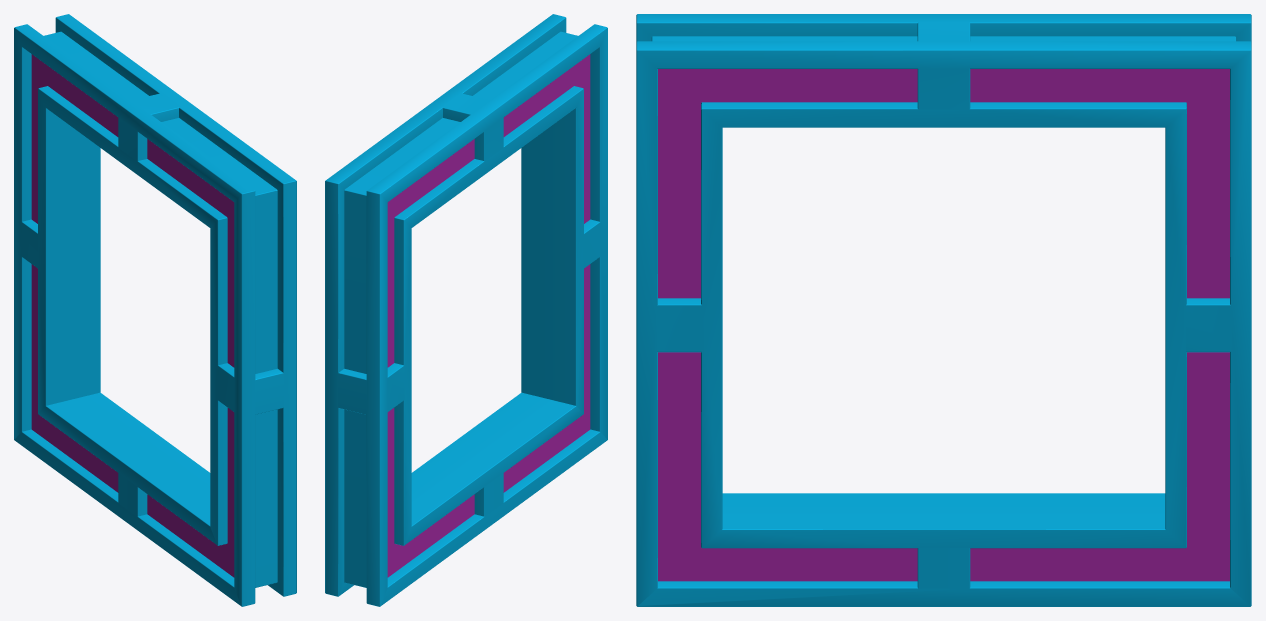
Rendered from SM Platform Hole.fbx.
3 renders of one model, left to right at view 1: azimuth 30°, elevation 25°; view 2: azimuth 150°, elevation 25°; view 3: azimuth 270°, elevation 25°, orthographic. The views are drawn at different scales.
Parts seen in each view (by area): view 1: SM_Platform_Hole; view 2: SM_Platform_Hole; view 3: SM_Platform_Hole.
Part boxes in pixels (bbox=[...]): SM_Platform_Hole: bbox=[14, 14, 296, 606]; SM_Platform_Hole: bbox=[325, 14, 607, 606]; SM_Platform_Hole: bbox=[636, 14, 1251, 606].
Size of the model in its own units: 81.51 by 582 by 582.
